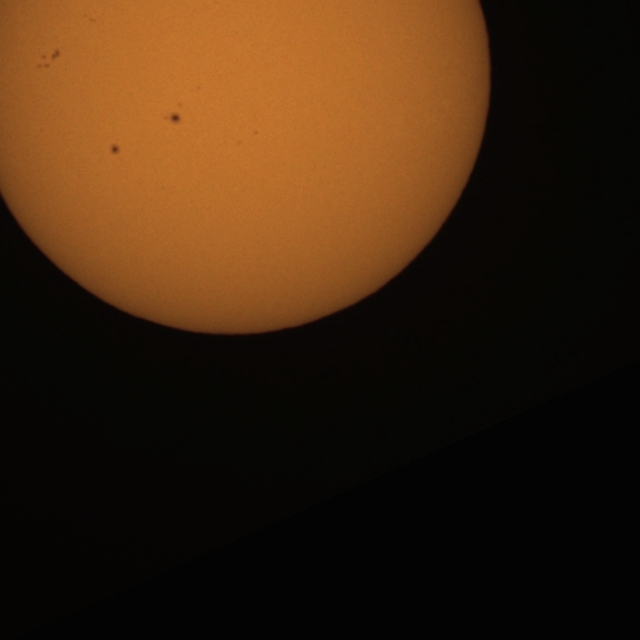sunspot: (36, 48, 61, 71), (163, 104, 183, 126), (109, 143, 122, 156), (83, 13, 97, 23), (253, 129, 260, 136)
